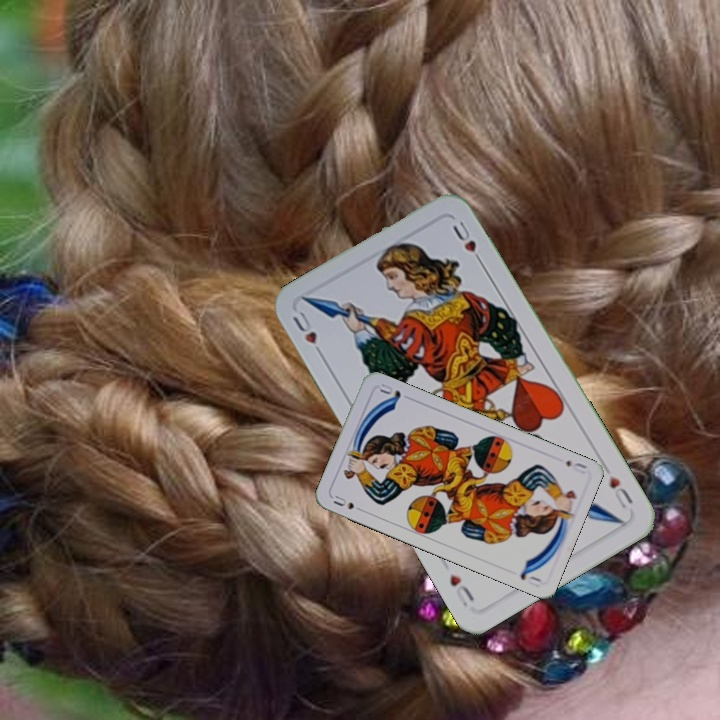HU: (288, 306, 327, 361), (605, 471, 636, 512)
SU: (329, 491, 367, 515), (562, 456, 589, 477)
